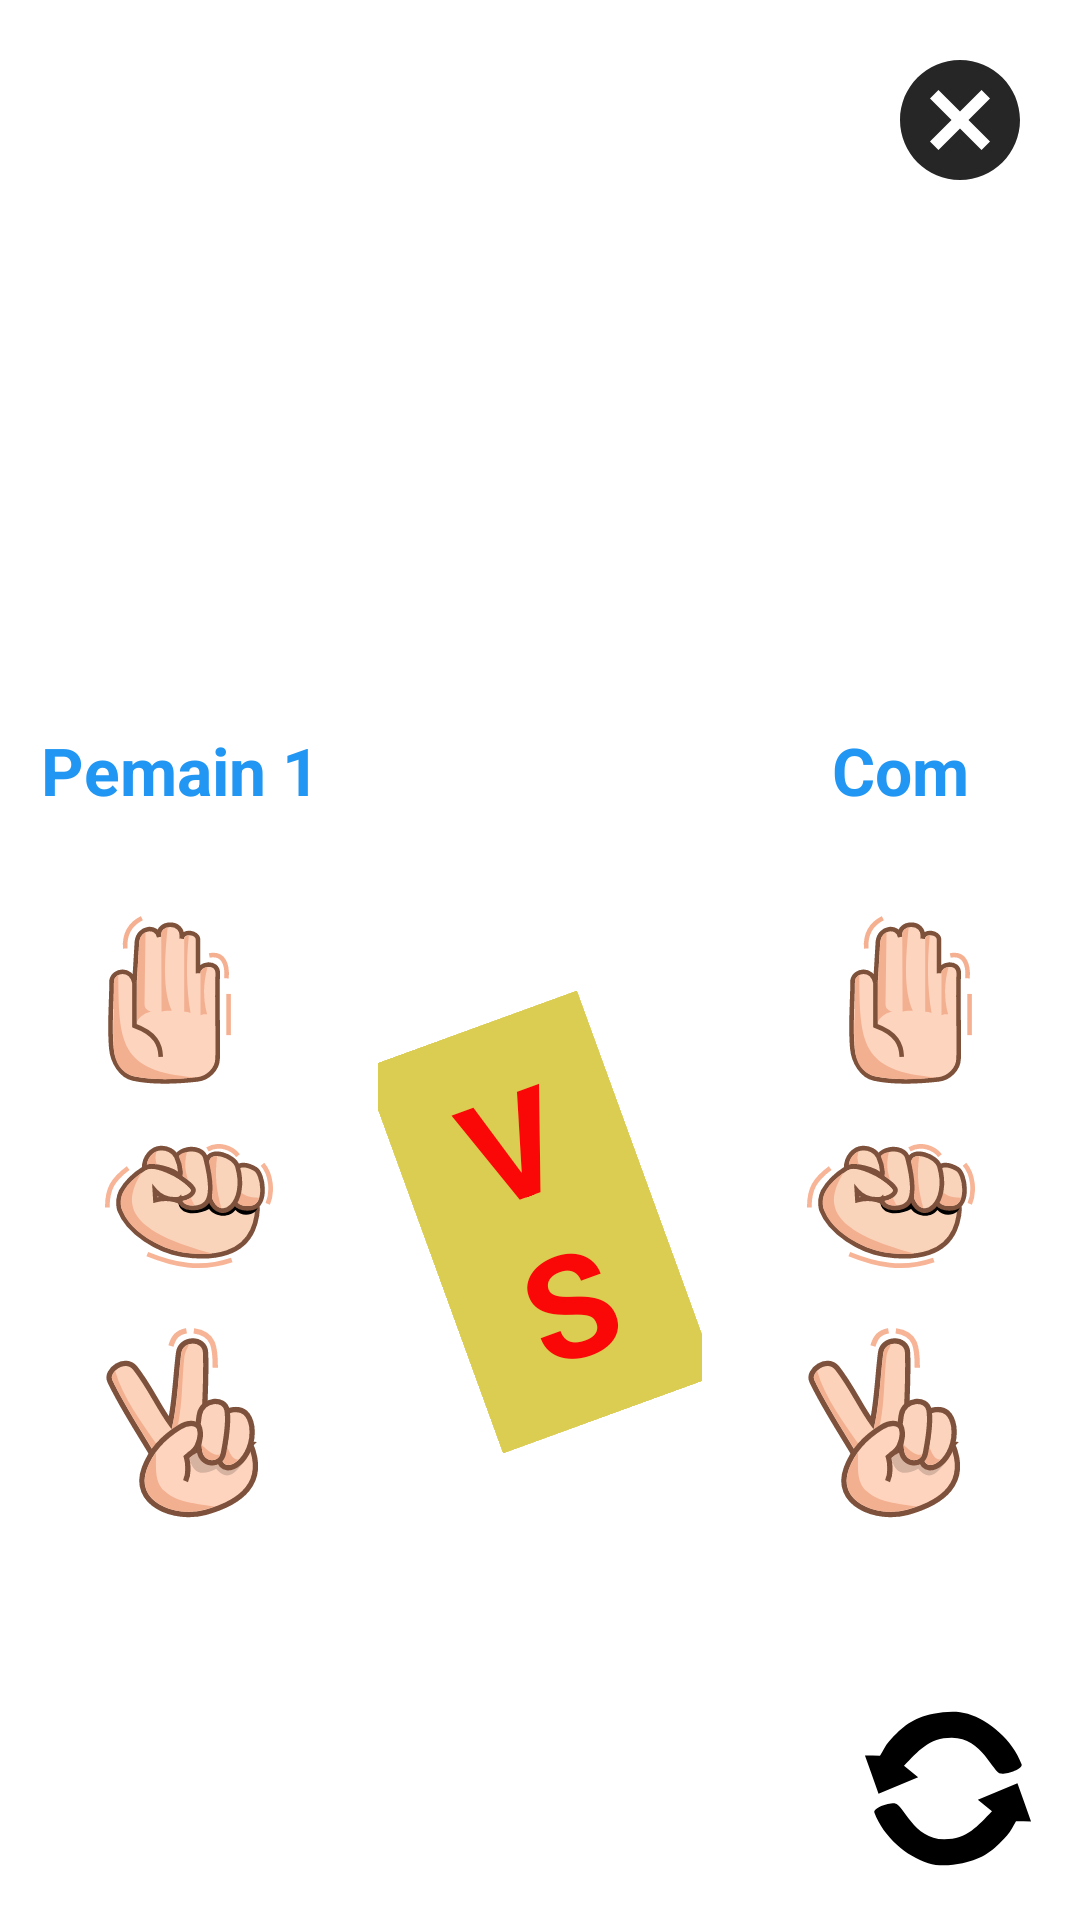

Named icons in this screenshot (1080x1920) and their centers, point (x, y):
batu: point (189, 1206), point (891, 1206)
close: point (960, 120)
gunting: point (182, 1423), point (884, 1423)
kertas: point (169, 1000), point (910, 1000)
refresh: point (948, 1788)
